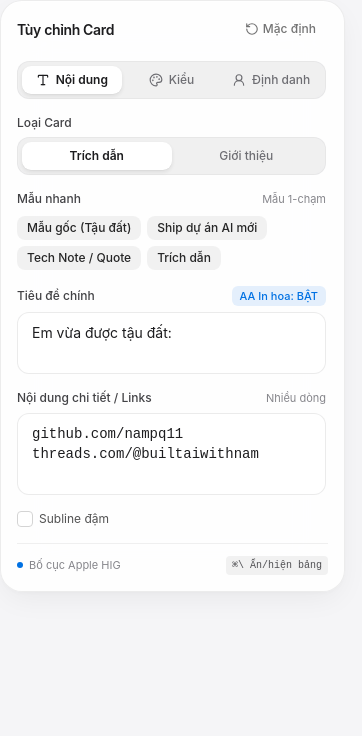
Test: Inspector Showcase Annotations section › explains the per-Shot cap and offers no adds once every Shot is annotated
What coordinates should you click on to do the following:
click the radio button labelled "Giới thiệu"
I would click on:
 (246, 156)
Its box is [219,148,273,163].
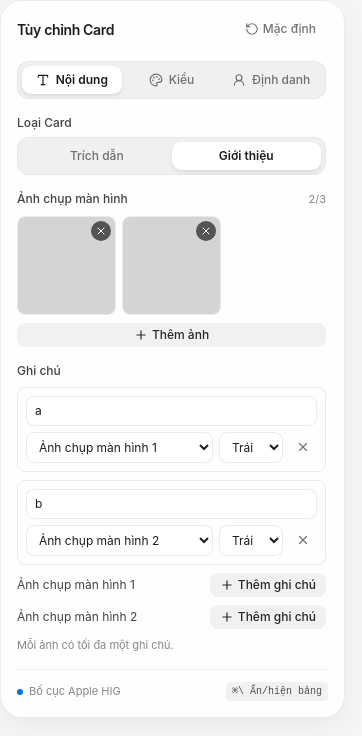
Result: the text "Mỗi ảnh có tối đa một ghi chú." is shown at [17,638,174,652]
